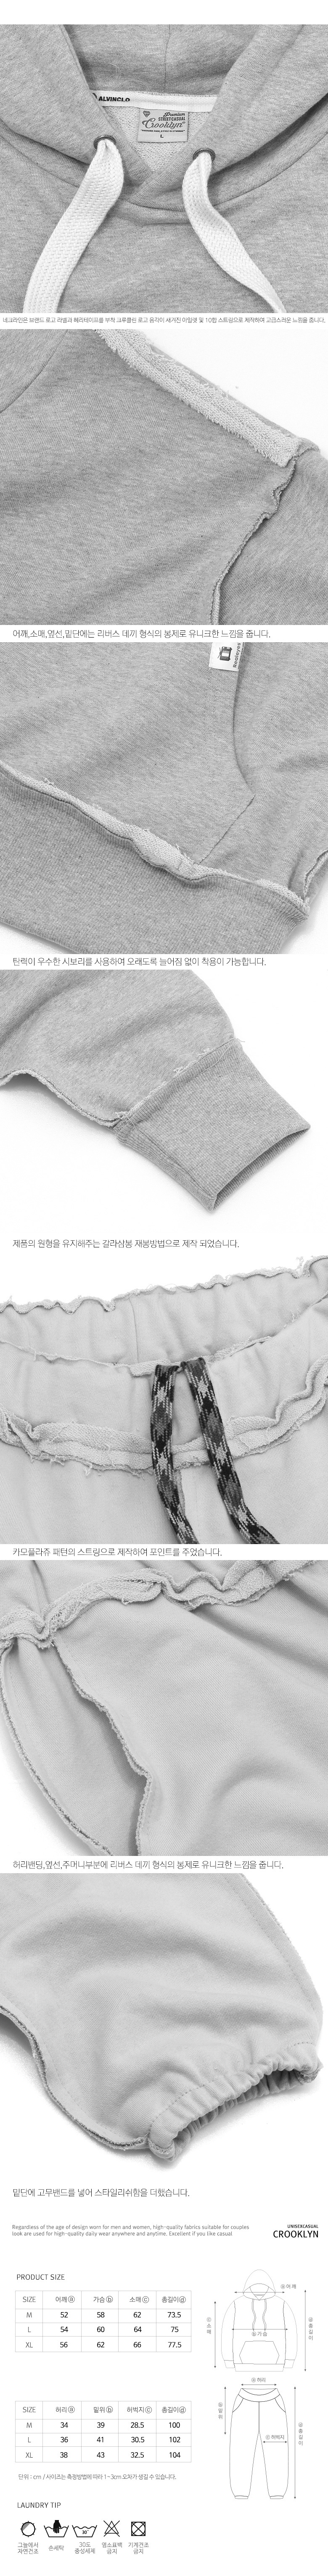table: (15, 2290, 194, 2354), (13, 2402, 192, 2461)
